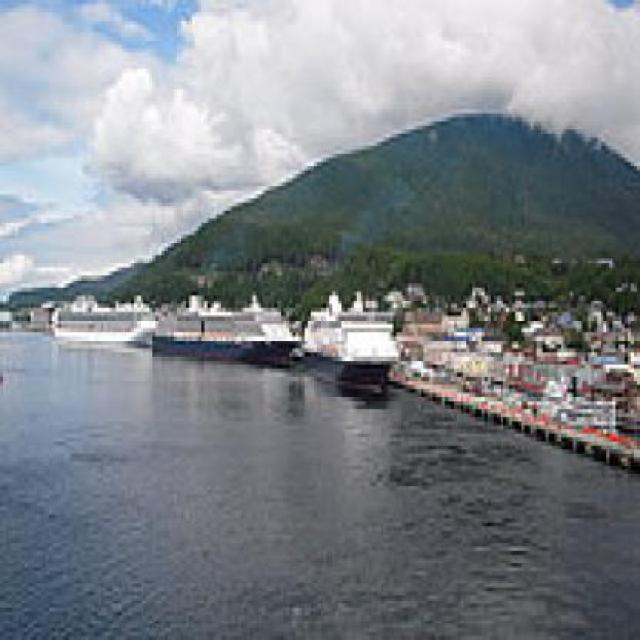cruise: (144, 285, 312, 374)
